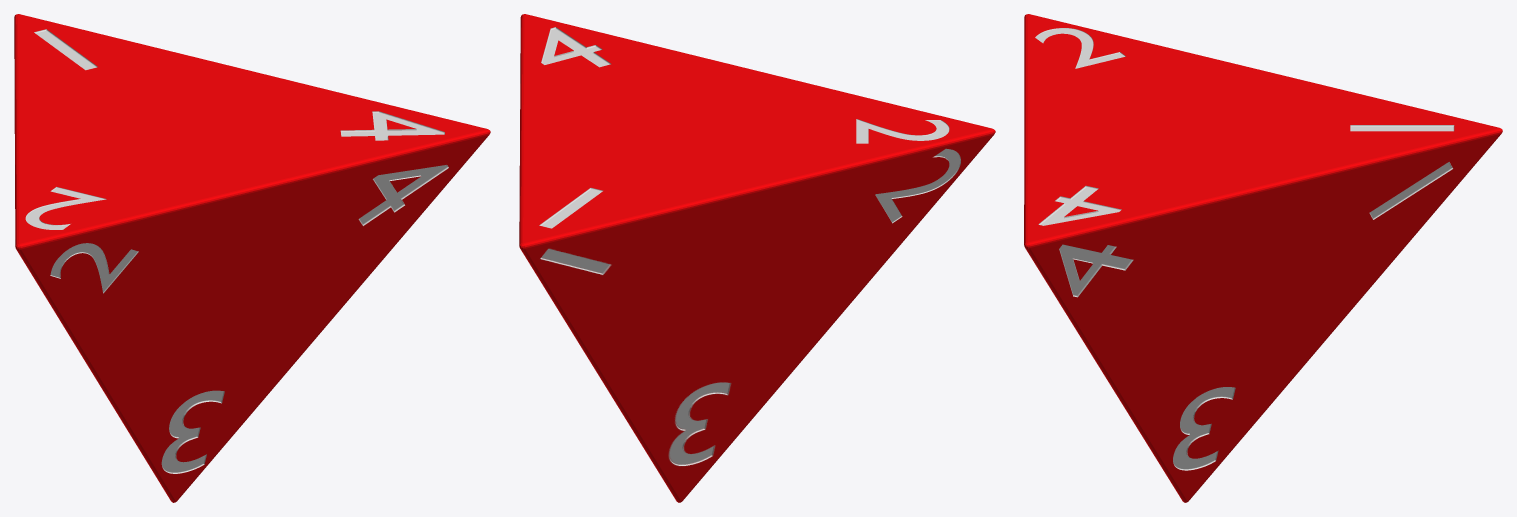
3 renders of one model, left to right at view 1: azimuth 30°, elevation 25°; view 2: azimuth 150°, elevation 25°; view 3: azimuth 270°, elevation 25°, orthographic.
Visible parts, largest first — view 1: d4; view 2: d4; view 3: d4.
Boxes of the visible parts, x1=… form: d4: x1=14, y1=14, x2=490, y2=502; d4: x1=519, y1=14, x2=995, y2=502; d4: x1=1024, y1=14, x2=1502, y2=502.
Size of the model in its own units: 2.04 by 1.54 by 1.78.
Materials: 1 (1 with a texture image).
